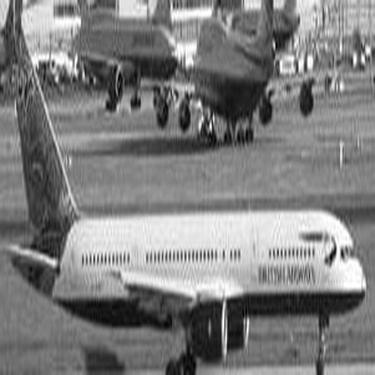airplane: (1, 8, 345, 348)
